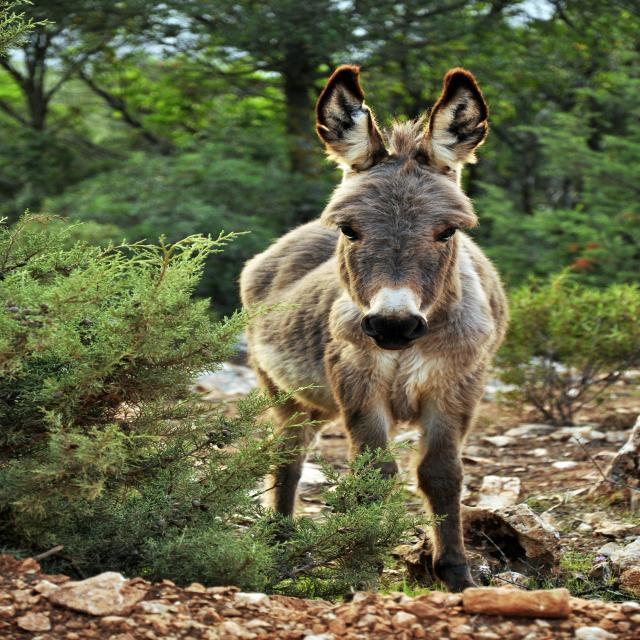Donkey: (241, 62, 513, 573)
